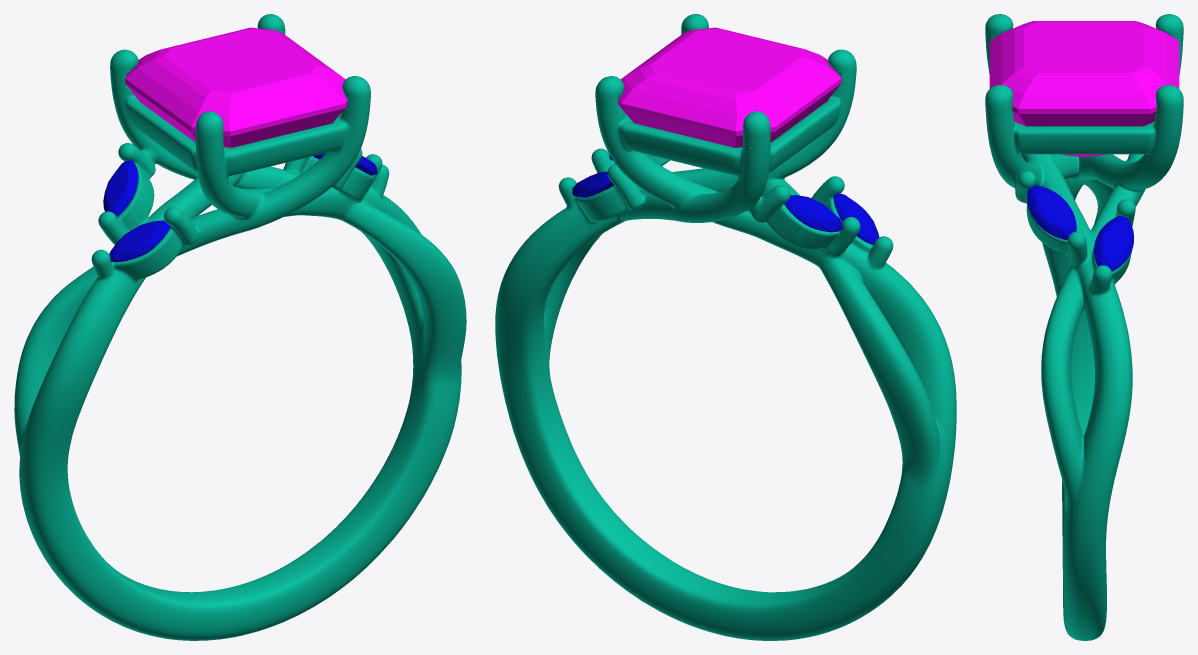
Rendered from BE104_AS_200ct_RENDER.glb.
3 renders of one model, left to right at view 1: azimuth 30°, elevation 25°; view 2: azimuth 150°, elevation 25°; view 3: azimuth 270°, elevation 25°, orthographic.
Visible parts, largest first — view 1: Metal 01, CS_Diamond_Asscher, Diamond_Marquise_side.003, Diamond_Marquise_side.002; view 2: Metal 01, CS_Diamond_Asscher, Diamond_Marquise_side.002, Diamond_Marquise_side.003, Diamond_Marquise_side.001; view 3: Metal 01, CS_Diamond_Asscher, Diamond_Marquise_side, Diamond_Marquise_side.001.
Part boxes in pixels (x1,y1,x2,y2): Metal 01: (14,14,466,640); CS_Diamond_Asscher: (125,27,347,147); Diamond_Marquise_side.003: (109,220,170,262); Diamond_Marquise_side.002: (103,160,138,216); Metal 01: (495,14,956,640); CS_Diamond_Asscher: (618,27,841,147); Diamond_Marquise_side.002: (784,195,842,232); Diamond_Marquise_side.003: (833,193,879,245); Diamond_Marquise_side.001: (572,171,613,197); Metal 01: (985,14,1183,640); CS_Diamond_Asscher: (989,21,1179,157); Diamond_Marquise_side: (1027,185,1076,239); Diamond_Marquise_side.001: (1094,215,1133,271).
Bounding box in the file's own units: 20.15 × 24.88 × 7.86.
